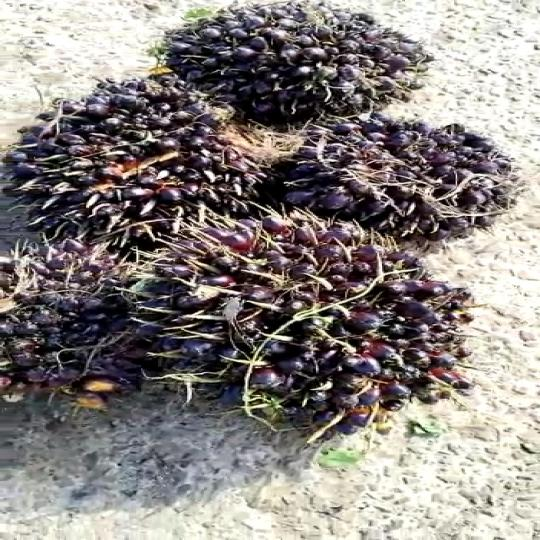kurang masak: (0, 206, 469, 430), (26, 68, 280, 248), (279, 100, 535, 266), (148, 0, 454, 125)
